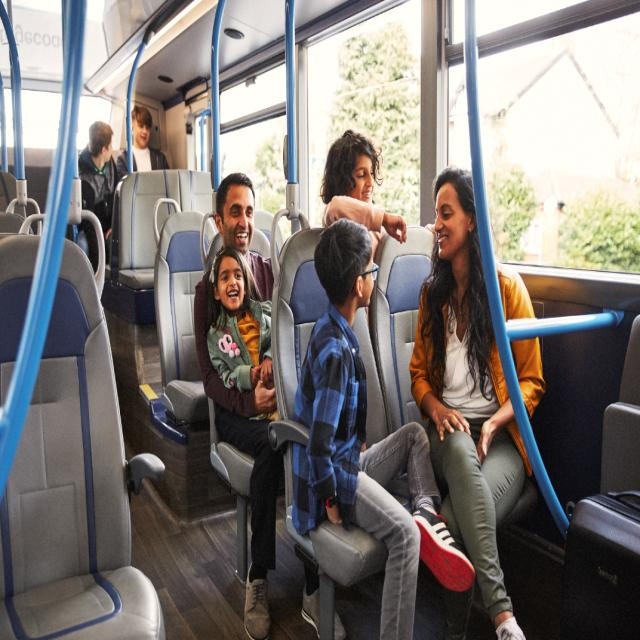asiento-libre: (1, 232, 166, 639), (153, 210, 217, 426), (111, 169, 174, 290), (164, 168, 216, 266)
